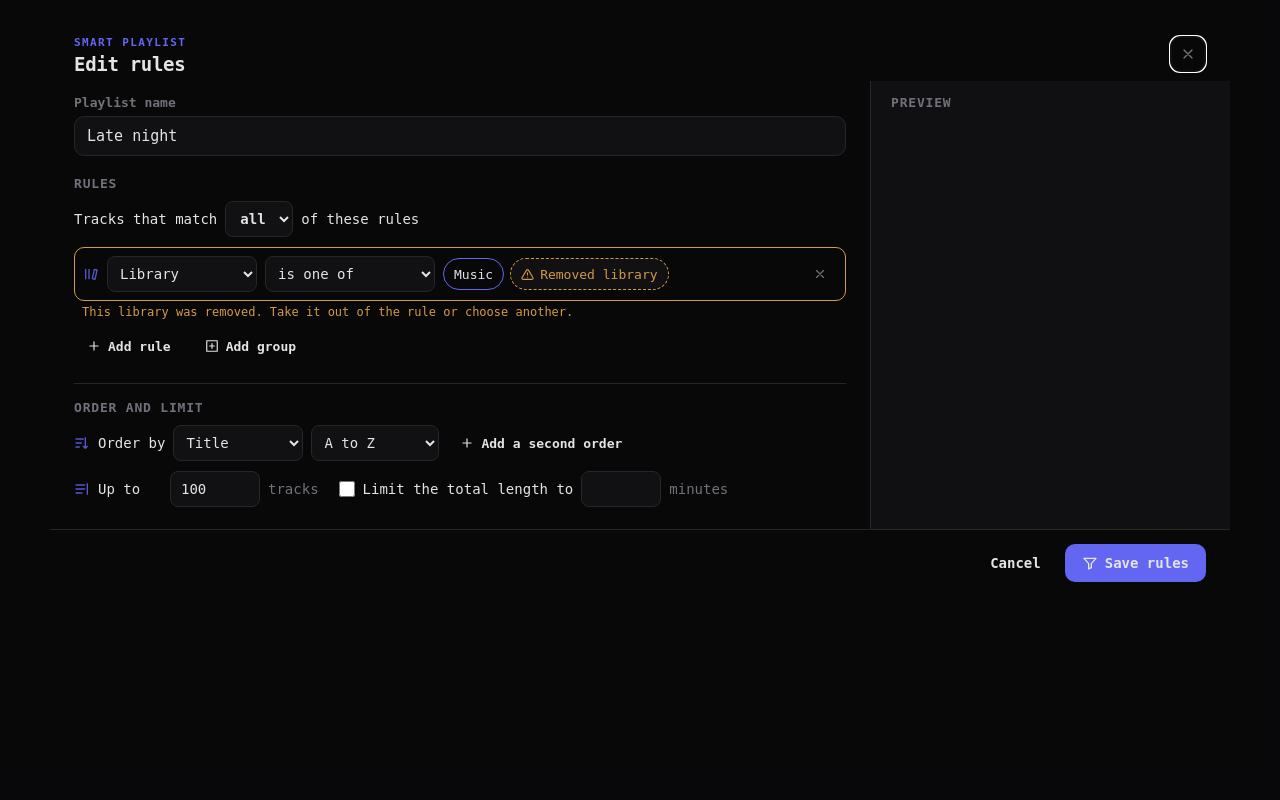
SmartPlaylistEditor › flags a removed library and lets it be taken out
This screenshot has width=1280, height=800.
Expected: the text "This library was removed. Take it out of the rule or choose another." is shown, 82,305 -> 573,319
Click the button "Removed library": {"x": 589, "y": 274} 510,258 -> 668,290
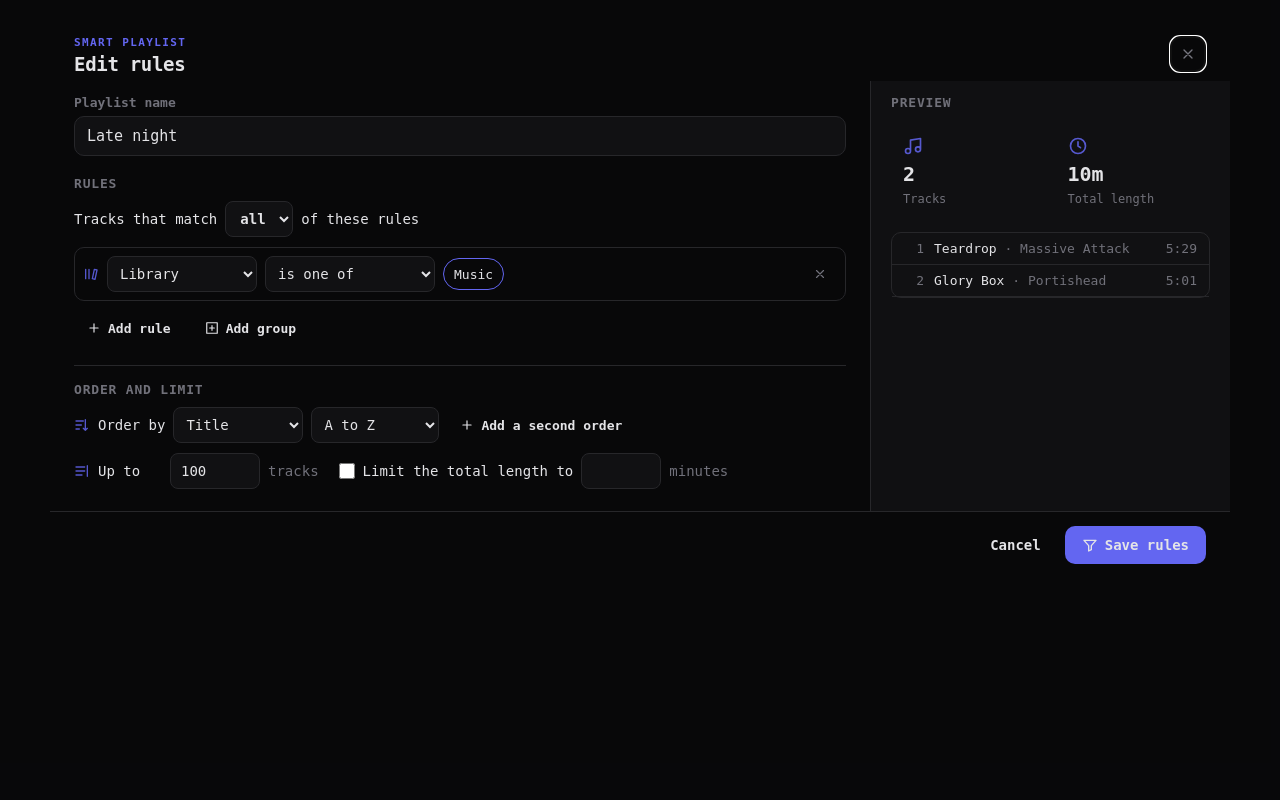
Result: the button "Removed library" is gone
Result: the text "This library was removed. Take it out of the rule or choose another." is gone
